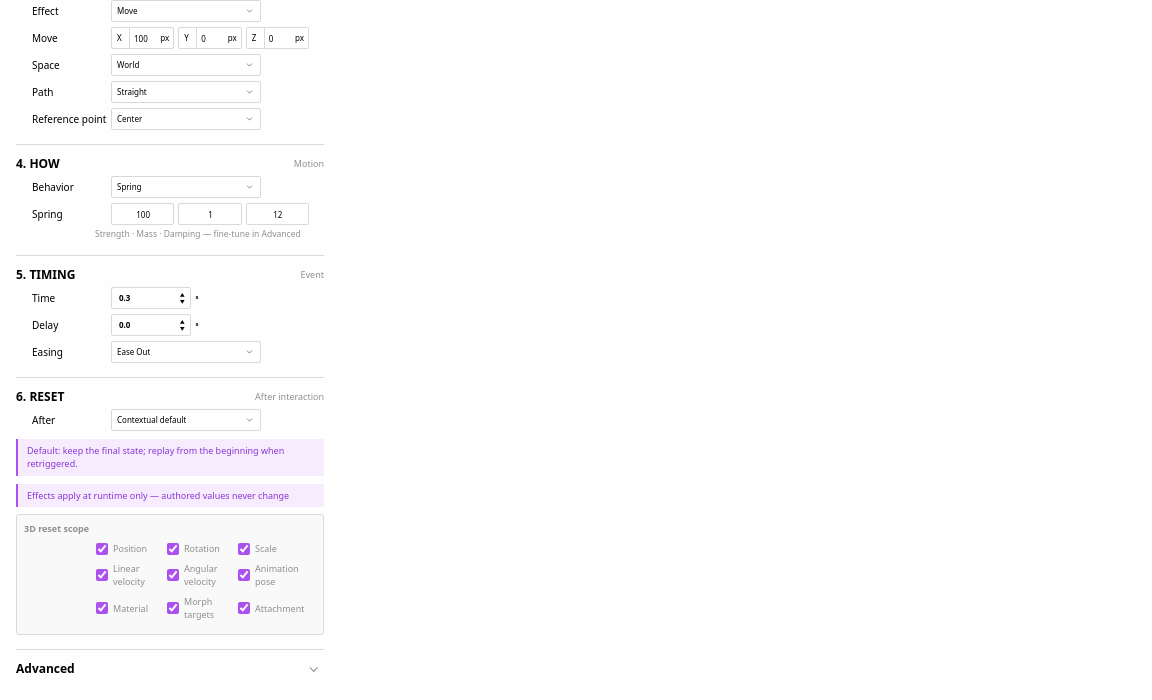
Scenario: InteractionPanel conditional UI › exposes scene-logic lifecycle outputs and opens the full keyframe editor
The width and height of the screenshot is (1152, 700).
(page scrolled)
Click the button named "Expand advanced". click: [313, 668]
box: [304, 659, 322, 677]
(page scrolled)
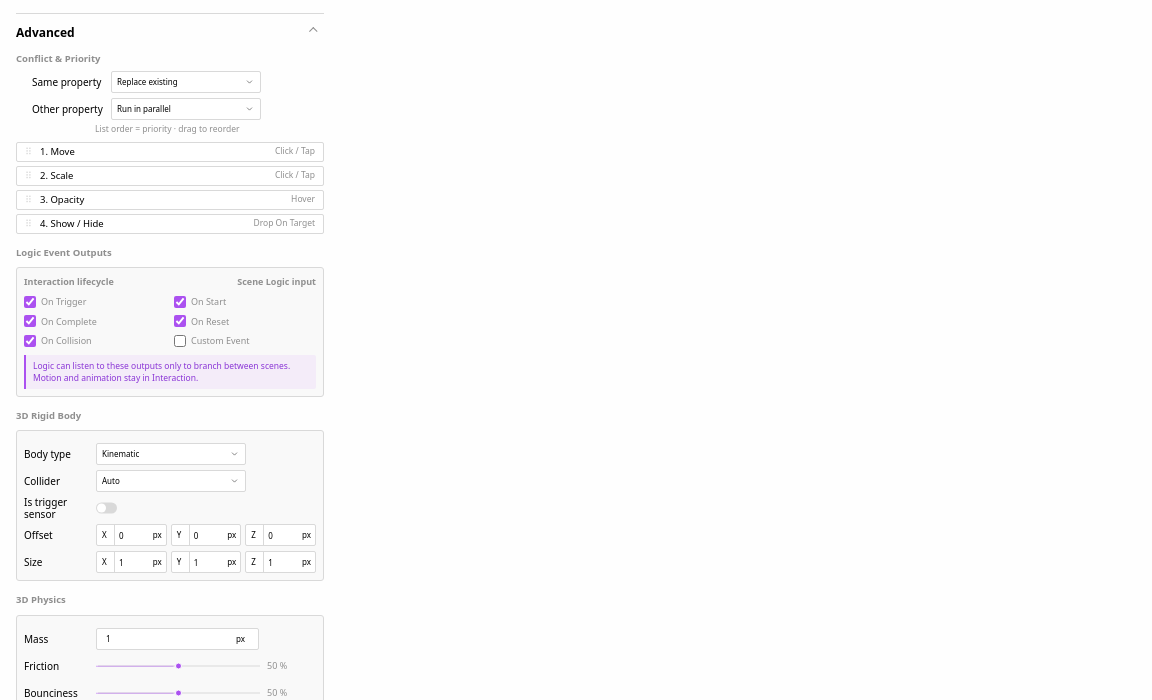
Check: the checkbox named "Emit On Trigger" is checked, box [24, 296, 36, 308]
Click the checkbox named "Emit Custom Event". click: [180, 341]
box: [174, 335, 186, 347]
(page scrolled)
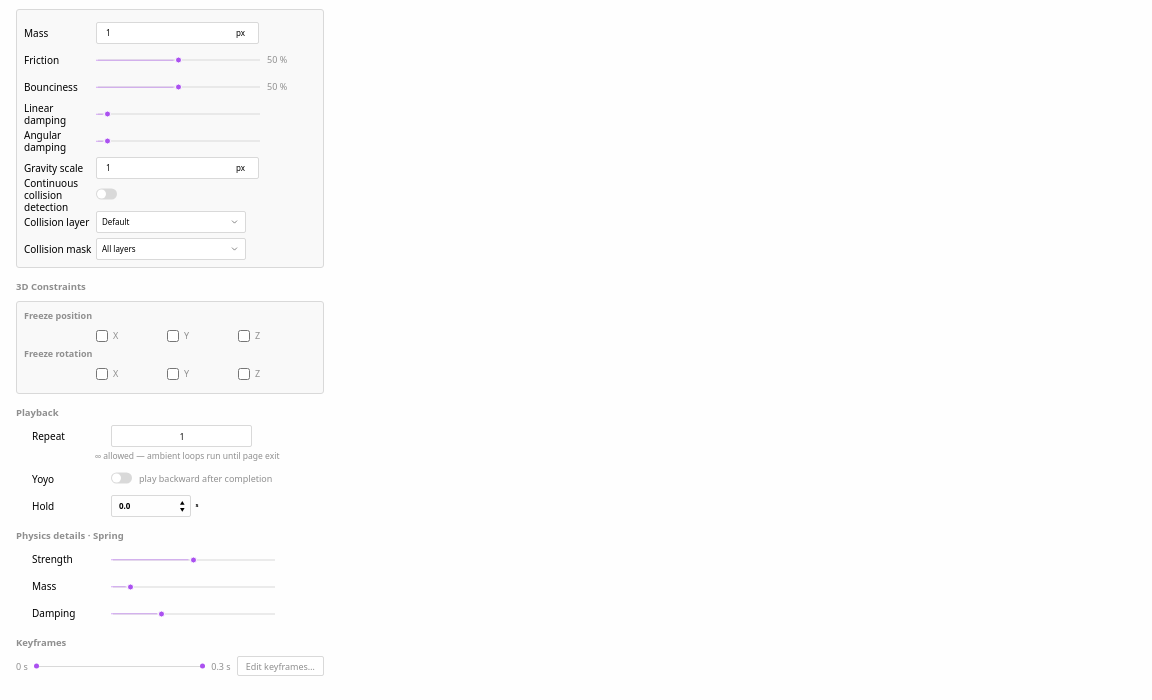
Click the button "Edit keyframes…". click: [280, 666]
box: [237, 656, 324, 676]
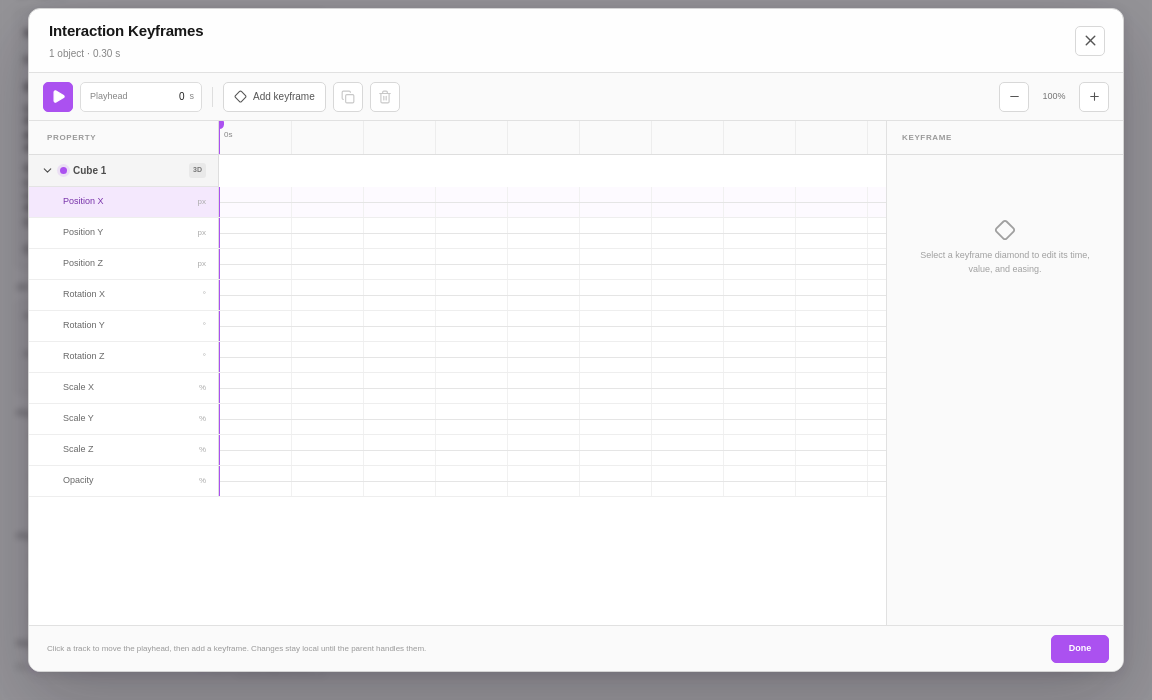
Check: the dialog "Interaction Keyframes" is shown
Check: the button with aria-label "Select Cube 1 Position Z track" is shown, box [29, 249, 219, 279]
